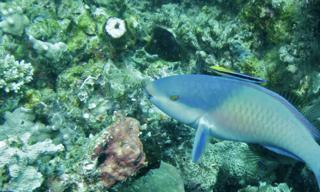Labridae -Wrasse-: (209, 61, 273, 90)
Scaridae -Parrotfishes-: (142, 66, 320, 192)
